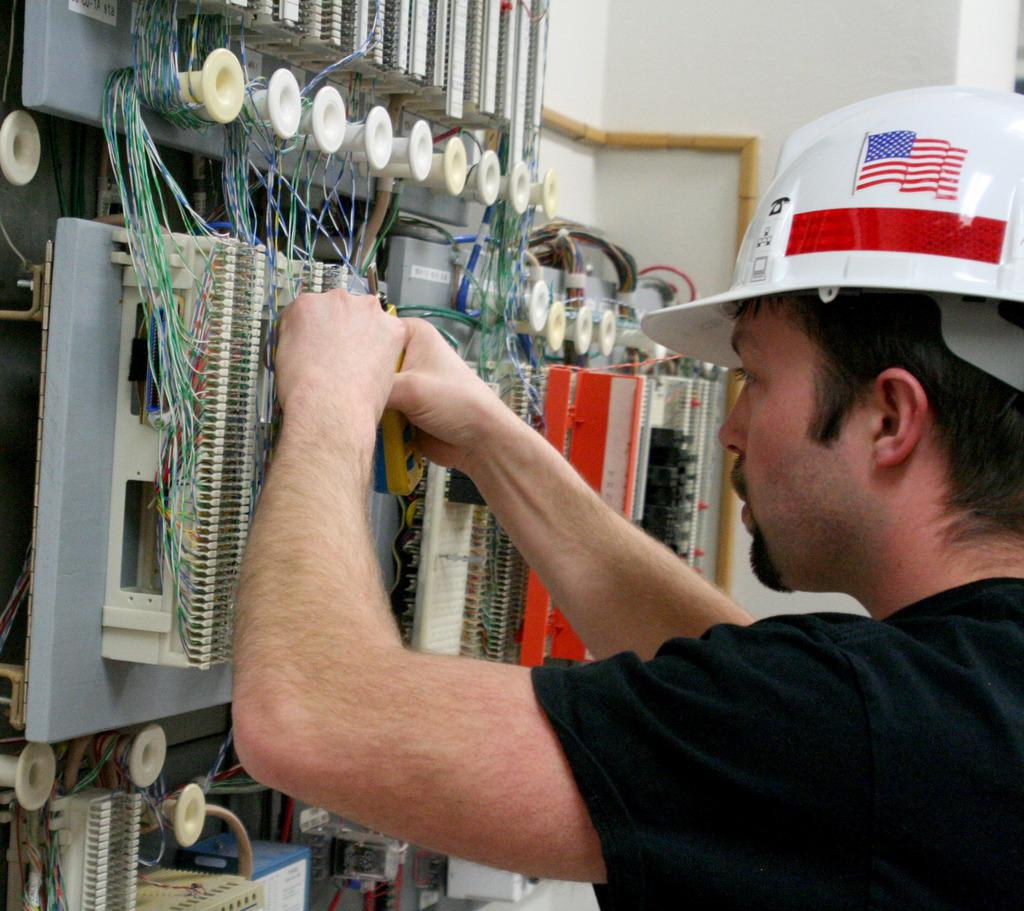helmet: (640, 85, 1023, 589)
